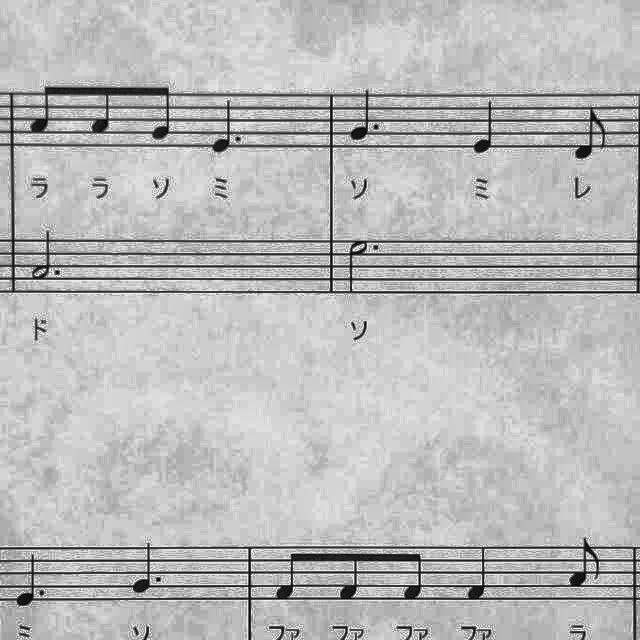Eighth-note: (570, 104, 614, 168), (144, 77, 180, 146), (564, 536, 606, 594), (24, 78, 60, 142), (270, 546, 306, 606), (84, 77, 118, 139), (401, 546, 432, 606), (336, 551, 368, 605)
Half-dot: (341, 236, 384, 296), (23, 225, 65, 282)
Quarter-dot: (14, 545, 54, 615), (206, 98, 248, 158), (128, 538, 168, 598), (344, 88, 384, 144)
Quarter-note: (469, 98, 507, 162), (464, 539, 492, 605)
